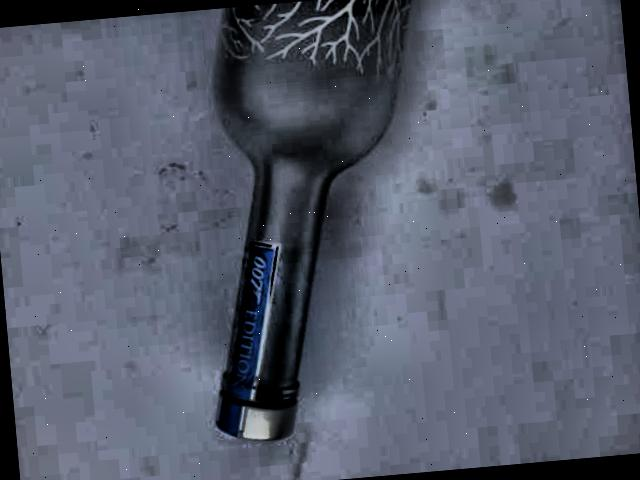Bottles: (155, 0, 472, 468)
